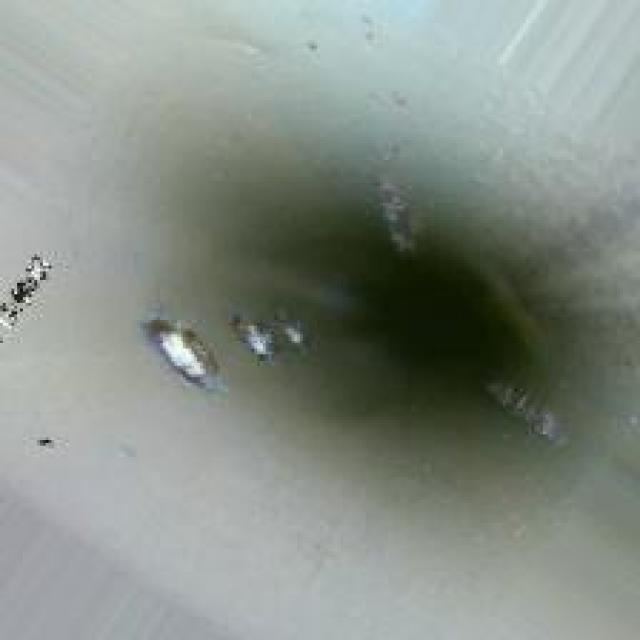ferrule: (157, 323, 217, 380), (234, 312, 272, 354), (277, 308, 303, 343)
